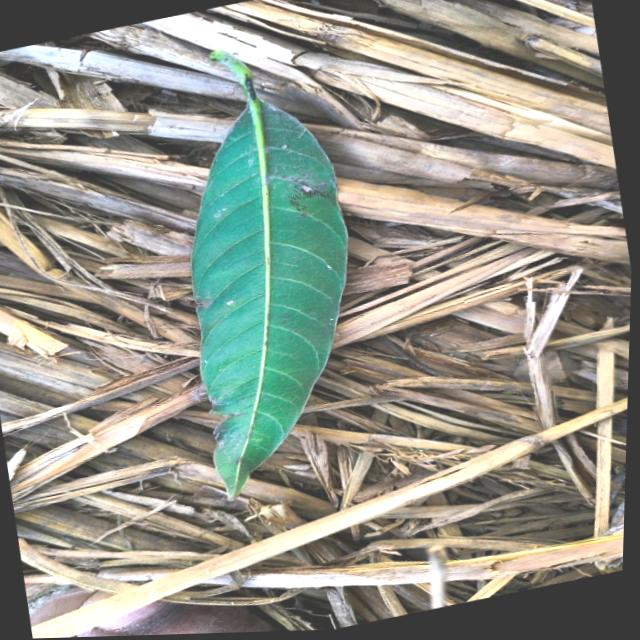Bacterial Cancer: (205, 396, 238, 446)
Powdery Mildew: (212, 206, 228, 219), (279, 143, 289, 151), (302, 185, 312, 192), (225, 298, 233, 306)
